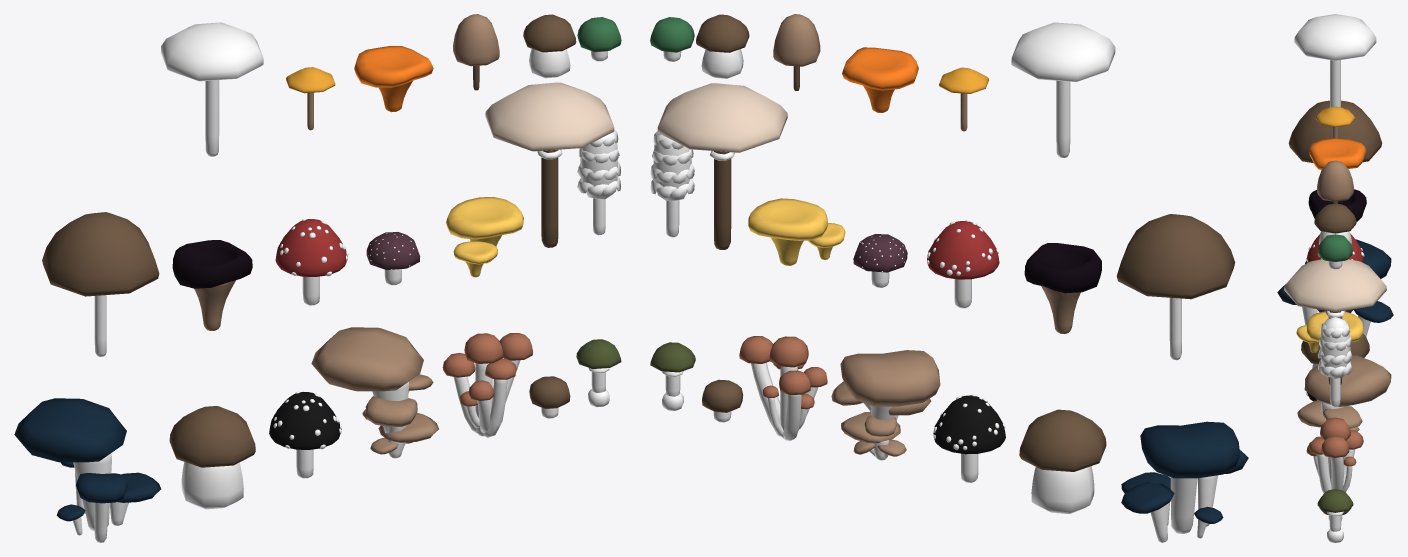
File: low_poly_mushroom_pack.glb
3 views of the same model, side by side, from view 1: azimuth 30°, elevation 25°; view 2: azimuth 150°, elevation 25°; view 3: azimuth 270°, elevation 25° (orthographic). The views are drawn at different scales.
Visible parts, largest first — view 1: Object_2, Object_3; view 2: Object_2, Object_3; view 3: Object_2, Object_3.
Boxes of the visible parts, box(x1,y1,x2,y2) form: Object_2: box(14, 14, 621, 542); Object_3: box(172, 197, 523, 478); Object_2: box(650, 14, 1248, 542); Object_3: box(748, 198, 1101, 482); Object_2: box(1277, 14, 1393, 542); Object_3: box(1296, 189, 1366, 401).
Size of the model in its own units: 1.49 by 1.14 by 0.3219.
Materials: 1 (1 with a texture image).
